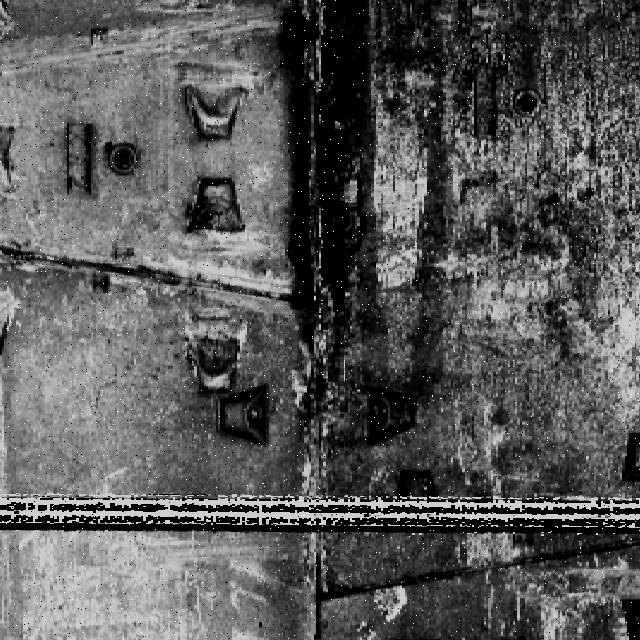leakage: (270, 1, 375, 479)
